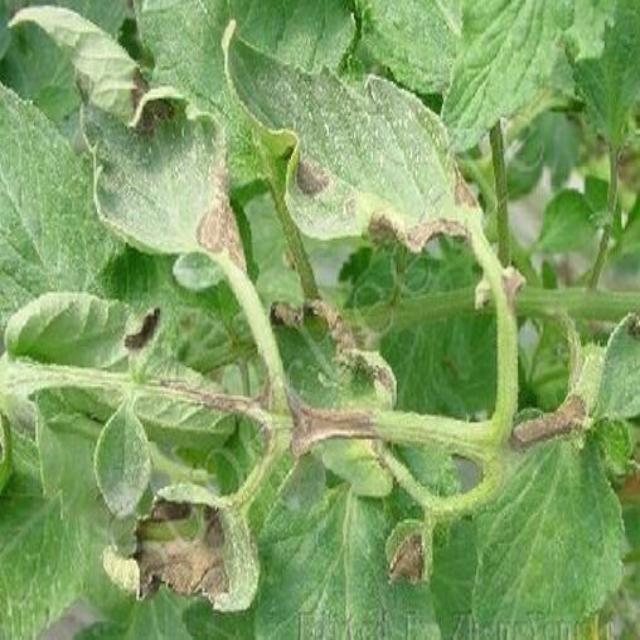Early_blight: (99, 477, 262, 613), (269, 295, 398, 393), (192, 144, 249, 273), (277, 392, 380, 454), (365, 203, 471, 258), (511, 393, 590, 452), (126, 66, 176, 141), (382, 519, 434, 585), (124, 303, 160, 373), (287, 145, 335, 197), (453, 165, 481, 211)
